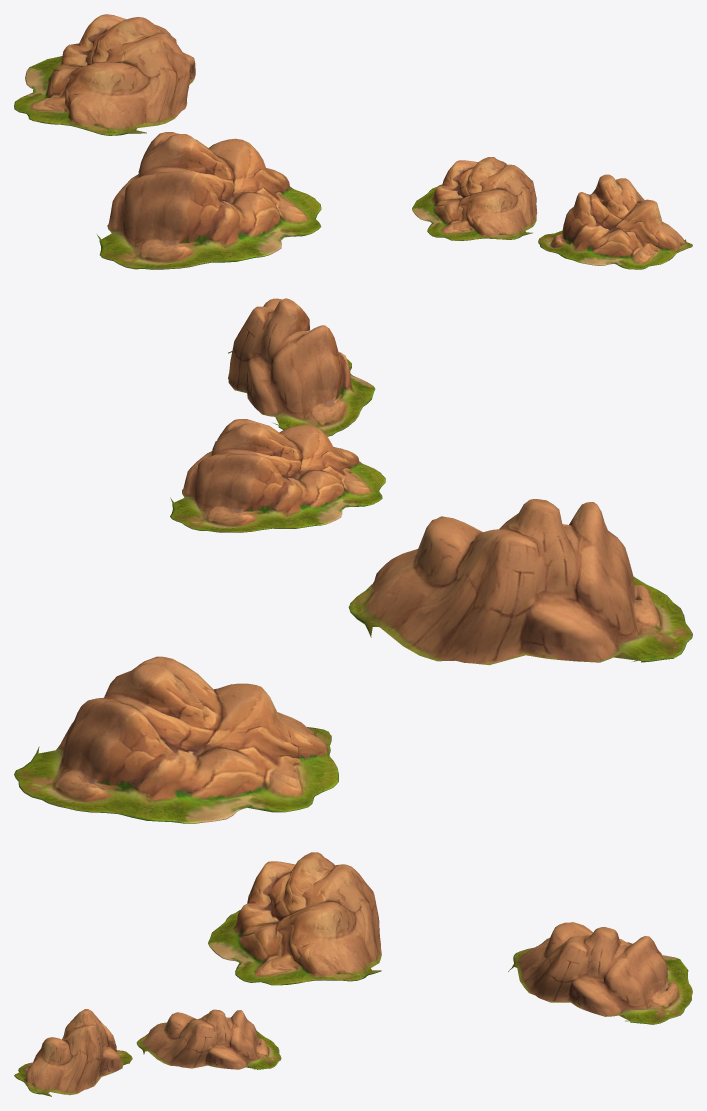
Rendered from puente_rocas.glb.
3 views of the same model, one above another, from view 1: azimuth 30°, elevation 25°; view 2: azimuth 150°, elevation 25°; view 3: azimuth 270°, elevation 25° (orthographic). The views are drawn at different scales.
Visible parts, largest first — view 1: Wolf_Island.464; view 2: Wolf_Island.464; view 3: Wolf_Island.464.
Part boxes in pixels (x1,y1,x2,y2): Wolf_Island.464: (14,14,692,269); Wolf_Island.464: (14,298,692,823); Wolf_Island.464: (14,852,692,1096).
Bounding box in the file's own units: 38.67 × 8 × 55.11.
1 material, 1 textured.
